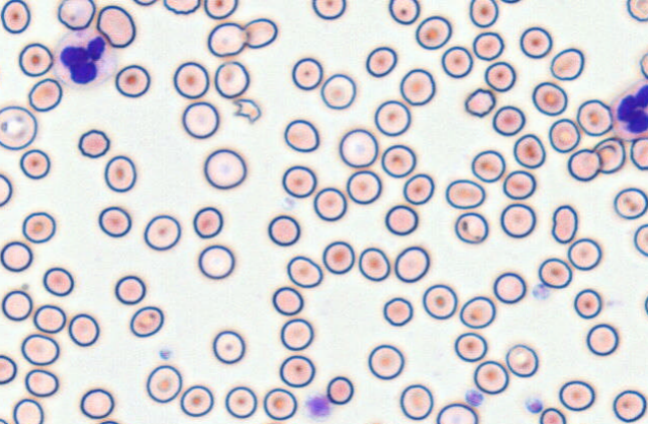GRAN: (52, 29, 118, 89), (613, 78, 648, 141)
PLT: (304, 393, 331, 420), (532, 282, 552, 302), (467, 388, 484, 407), (526, 396, 544, 413)
RBC: (203, 148, 247, 189), (96, 5, 136, 48), (0, 105, 37, 150), (338, 128, 378, 168), (181, 101, 219, 139), (145, 364, 182, 403), (576, 98, 613, 136), (172, 61, 209, 99), (143, 214, 181, 251), (207, 22, 247, 57), (367, 343, 404, 380), (374, 99, 411, 136), (394, 245, 430, 283), (399, 68, 435, 105), (197, 244, 235, 279), (214, 60, 249, 98), (320, 73, 356, 109), (500, 202, 536, 238), (346, 169, 382, 204), (422, 283, 457, 319), (415, 15, 451, 50), (531, 81, 567, 116), (399, 383, 433, 420), (103, 154, 136, 192), (445, 178, 485, 209), (18, 42, 53, 77), (473, 360, 509, 394), (114, 64, 150, 98), (283, 118, 319, 152), (286, 255, 323, 288), (21, 333, 59, 365), (313, 186, 347, 221), (279, 317, 314, 351), (381, 144, 416, 178), (279, 354, 315, 387), (459, 295, 495, 328), (281, 165, 317, 198), (28, 78, 62, 112), (262, 387, 297, 420), (179, 384, 214, 417), (212, 329, 245, 364), (567, 237, 602, 270), (470, 149, 505, 182), (549, 47, 584, 80), (593, 137, 625, 173), (558, 380, 595, 411), (57, 0, 95, 30), (612, 389, 646, 422), (505, 343, 538, 377), (567, 148, 601, 181), (322, 240, 355, 274), (492, 271, 526, 304), (454, 211, 488, 244), (548, 118, 580, 153), (129, 305, 164, 337), (358, 246, 390, 281), (513, 133, 545, 168), (224, 385, 257, 418), (586, 323, 619, 356), (613, 187, 647, 219), (22, 211, 56, 243), (79, 388, 114, 419), (0, 240, 33, 272), (267, 214, 300, 246), (98, 205, 131, 237), (291, 57, 323, 90), (441, 45, 473, 78), (519, 26, 552, 58), (0, 0, 31, 34), (453, 331, 487, 362), (243, 17, 277, 48), (538, 257, 572, 288), (384, 204, 418, 235), (502, 169, 536, 200), (402, 173, 434, 205), (68, 313, 99, 346), (492, 105, 525, 136), (1, 289, 32, 321), (114, 274, 146, 305), (192, 206, 223, 238), (484, 61, 516, 92), (365, 46, 397, 77), (77, 128, 110, 158), (24, 368, 58, 397), (19, 148, 50, 179), (271, 286, 303, 316), (42, 266, 74, 296), (472, 31, 504, 61), (33, 304, 66, 333), (435, 402, 478, 424), (382, 296, 413, 326), (573, 288, 602, 319), (326, 375, 354, 404), (469, 0, 498, 28), (12, 398, 44, 423), (388, 0, 420, 25), (311, 0, 346, 20), (203, 0, 238, 19), (629, 137, 647, 170), (163, 0, 200, 14), (0, 354, 17, 384), (633, 223, 647, 257), (626, 0, 647, 21), (539, 407, 566, 423), (0, 173, 12, 207), (639, 51, 648, 79), (132, 0, 157, 6), (97, 419, 121, 424), (644, 292, 648, 317), (0, 59, 3, 90), (500, 0, 521, 4), (0, 417, 9, 423)
Schistocyte: (465, 86, 496, 117), (554, 204, 578, 243), (230, 99, 262, 124)
